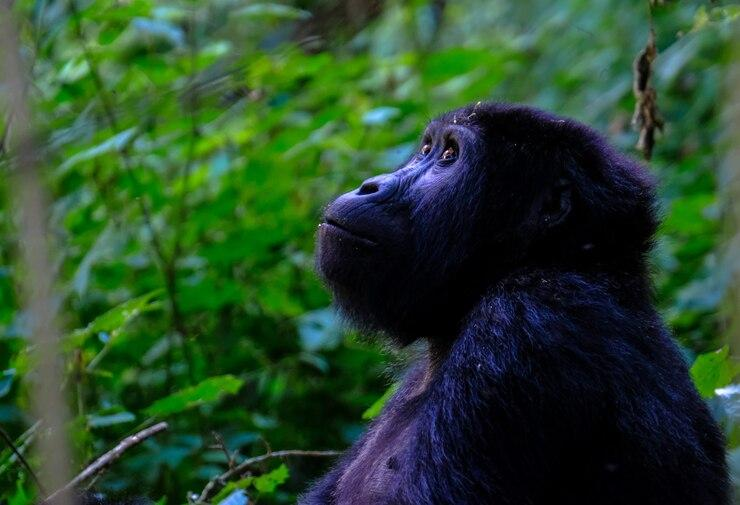gorille_Autres: (292, 72, 731, 505)
